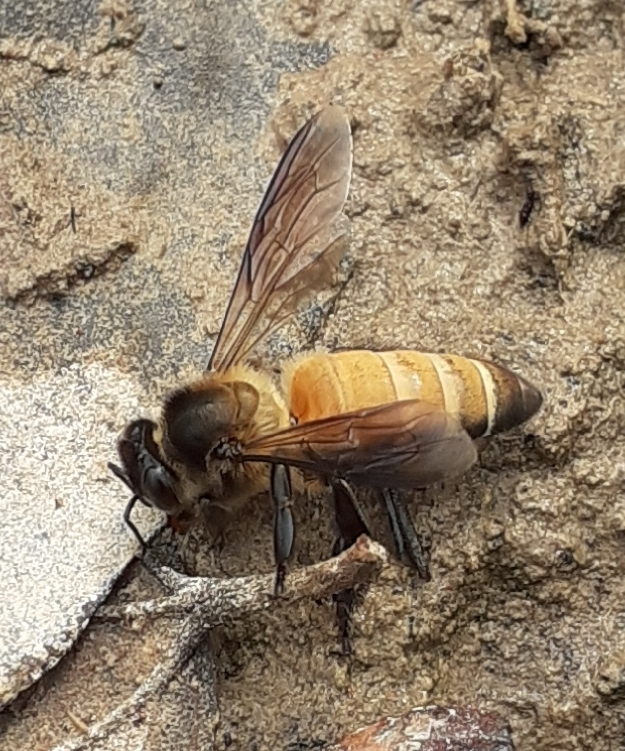not_bumblebee: (105, 99, 546, 606)
